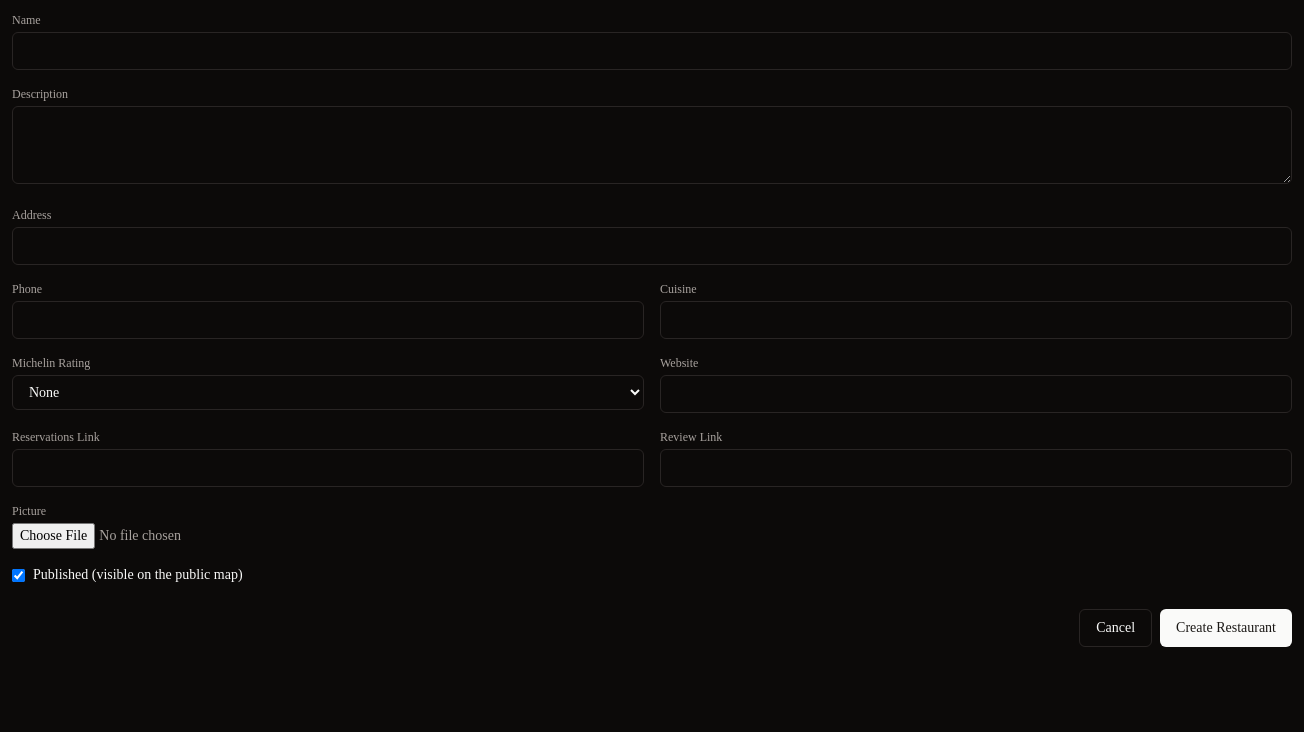
it: LocationForm › geocodes the address on blur
Type "123 Main St" into the field labelled "Address" at (652, 246), box top-left (12, 227), bottom-right (1292, 265)
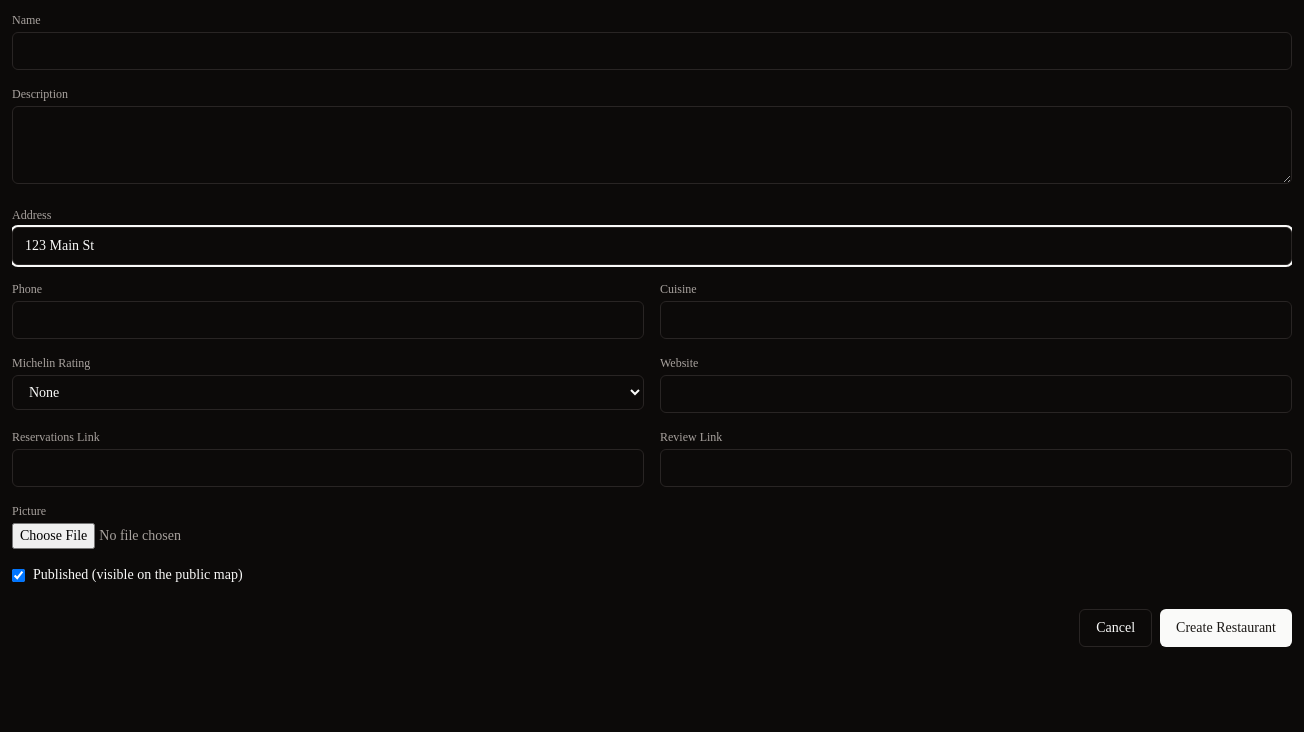
Leave the field labelled "Address", box top-left (12, 227), bottom-right (1292, 265)
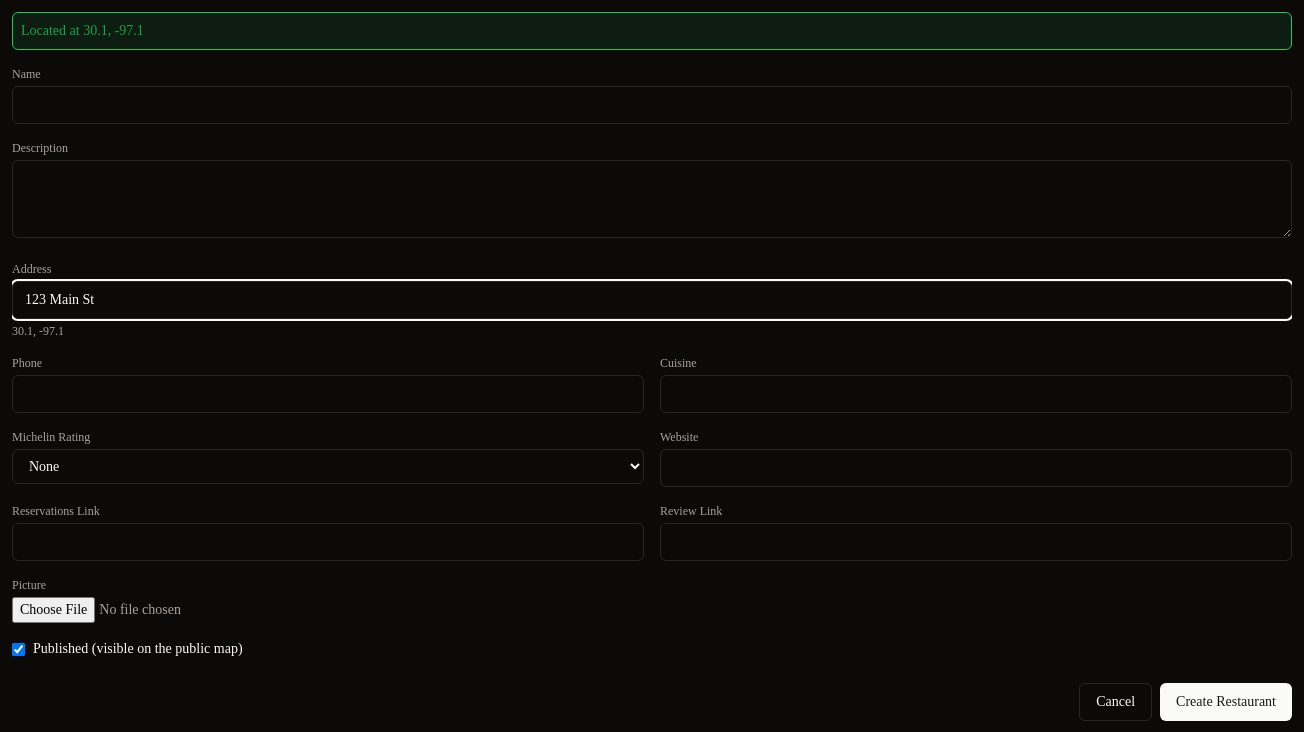
expect the text "Located at 30.1, -97.1" is shown: met, box top-left (12, 12), bottom-right (1292, 50)
